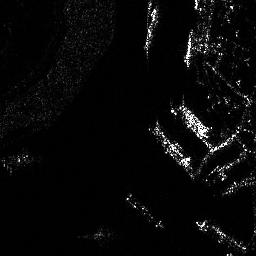ship: (149, 122, 194, 173), (177, 103, 211, 138), (142, 6, 158, 52), (183, 28, 196, 68)
